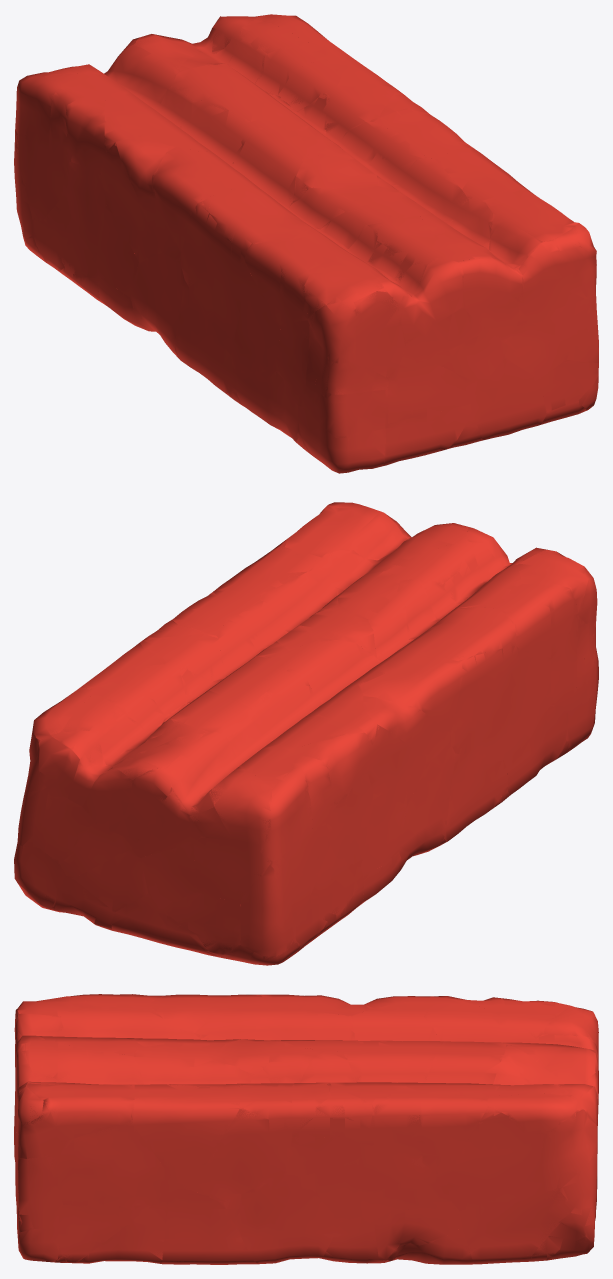
The model's file is BrickShattered2.fbx.
3 renders of one model, top to bottom at view 1: azimuth 30°, elevation 25°; view 2: azimuth 150°, elevation 25°; view 3: azimuth 270°, elevation 25°, orthographic. The views are drawn at different scales.
Visible parts, largest first — view 1: Retopo_3DModel_mesh.002_cell, Retopo_3DModel_mesh.002; view 2: Retopo_3DModel_mesh.002_cell, Retopo_3DModel_mesh.002; view 3: Retopo_3DModel_mesh.002_cell, Retopo_3DModel_mesh.002.
Boxes of the visible parts, box(x1,y1,x2,y2) form: Retopo_3DModel_mesh.002_cell: box(14, 15, 598, 473); Retopo_3DModel_mesh.002: box(14, 14, 598, 472); Retopo_3DModel_mesh.002_cell: box(14, 502, 598, 965); Retopo_3DModel_mesh.002: box(14, 506, 598, 963); Retopo_3DModel_mesh.002_cell: box(14, 994, 598, 1264); Retopo_3DModel_mesh.002: box(14, 994, 598, 1264).
Bounding box in the file's own units: 713 × 457 × 1458.
